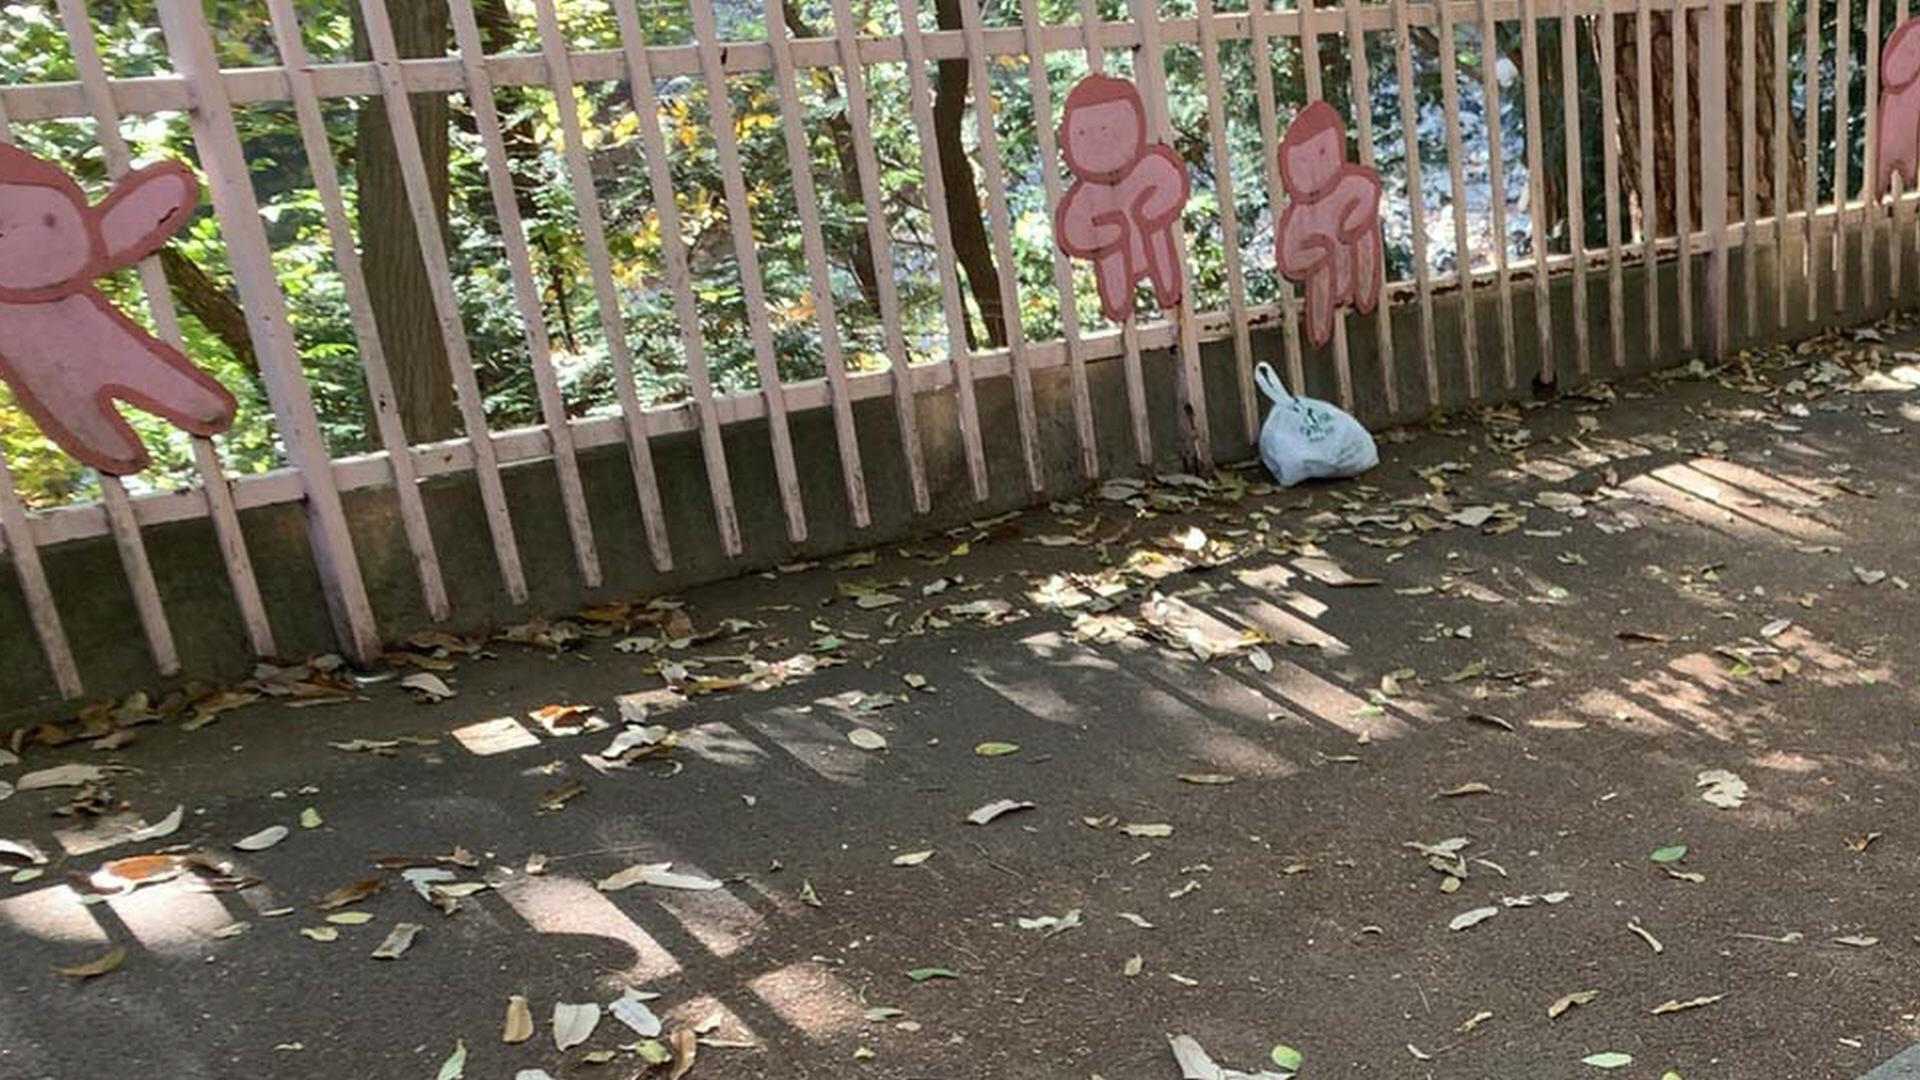white_bag: (1247, 357, 1389, 485)
